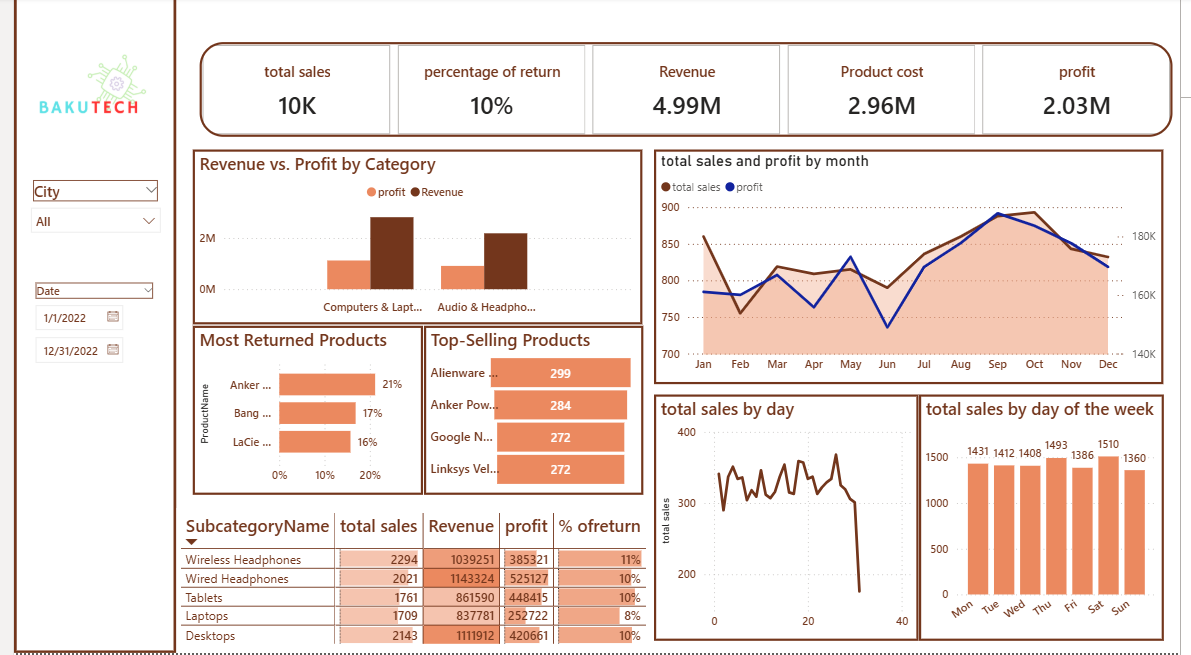

What the dashboard file says about the page in this screenshot:
{"tool":"powerbi","page":{"name":"Page 1","canvas":[1280,720],"ordinal":0},"visuals":[{"type":"cardVisual","fields":{"Data":["Sales_data.total sales","product_returns.% ofreturn","Sales_data.Revenue","Sales_data.Product cost","Sales_data.profit"]},"box":[198.4,25,1081.2,154.7],"z":0},{"type":"shape","box":[0,0,178.1,720.3],"z":1000},{"type":"clusteredColumnChart","title":"Revenue vs. Profit by Category","fields":{"Category":["Product_categories.CategoryName"],"Y":["Sales_data.profit","Sales_data.Revenue"]},"box":[196.9,167.2,493.8,192.2],"z":2000},{"type":"pivotTable","fields":{"Rows":["Product_subcategories.SubcategoryName"],"Values":["Sales_data.total sales","Sales_data.Revenue","Sales_data.profit","product_returns.% ofreturn"]},"box":[178.1,560.9,543.8,159.4],"z":3000},{"type":"funnel","title":"Top-Selling Products","fields":{"Category":["products_lookup.ProductName"],"Y":["Sales_data.total sales"]},"box":[450,360.9,240.6,185.9],"z":4000},{"type":"barChart","title":"Most Returned Products","fields":{"Category":["products_lookup.ProductName"],"Y":["product_returns.% ofreturn"]},"box":[196.9,360.9,253.1,185.9],"z":5000},{"type":"lineChart","fields":{"Y":["Sales_data.total sales"],"Y2":["Sales_data.profit"],"Category":["dates.month"]},"box":[703.1,167.2,559.4,257.8],"z":6000},{"type":"lineChart","fields":{"Y":["Sales_data.total sales"],"Category":["dates.day"]},"box":[703.1,435.9,290.6,270.3],"z":7000},{"type":"columnChart","fields":{"Category":["dates.day of the week"],"Y":["Sales_data.total sales"]},"box":[993.8,435.9,268.8,270.3],"z":8000},{"type":"image","box":[14.1,25,148.4,148.4],"z":9000},{"type":"slicer","fields":{"Values":["customer_lookup.City"]},"box":[7.8,196.9,162.5,67.2],"z":10000},{"type":"slicer","fields":{"Values":["dates.Date"]},"box":[10.9,309.4,154.7,126.6],"z":11000}]}

Visuals, with their boxes in screenshot pixels (x1, y1, x2, y2), scaled from the page's 1280x720 canvas onto the 1191x655 screenshot:
cardVisual - Sales_data.total sales x product_returns.% ofreturn: 185/23/1190/163
shape: 0/0/166/654
"Revenue vs. Profit by Category" clusteredColumnChart: 183/152/643/327
pivotTable - Product_subcategories.SubcategoryName x Sales_data.total sales: 166/510/672/654
"Top-Selling Products" funnel: 419/328/643/497
"Most Returned Products" barChart: 183/328/419/497
lineChart - Sales_data.total sales x Sales_data.profit: 654/152/1175/387
lineChart - Sales_data.total sales x dates.day: 654/397/925/642
columnChart - dates.day of the week x Sales_data.total sales: 925/397/1175/642
image: 13/23/151/158
slicer - customer_lookup.City: 7/179/158/240
slicer - dates.Date: 10/281/154/397
